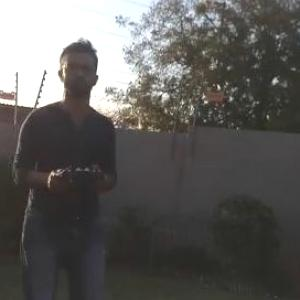follow: (9, 30, 120, 299)
